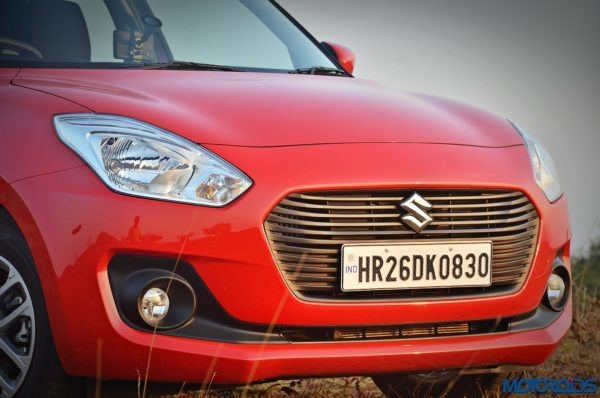number_plate: (342, 243, 494, 288)
